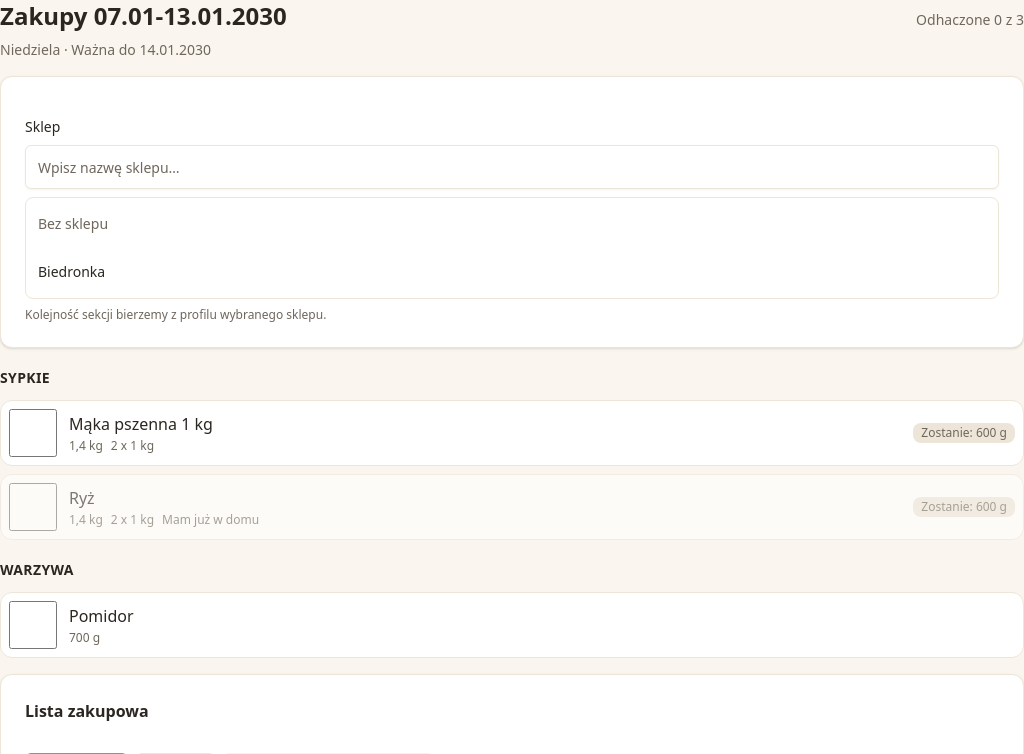
Test: ListaZakupowPage › zmiana sklepu wysyła PATCH i podmienia listę na wersję z serwera (AC 1)
In the dropdown with test id "store-picker-input": {"x": 512, "y": 167} [25,145,999,189], type "Biedronka"
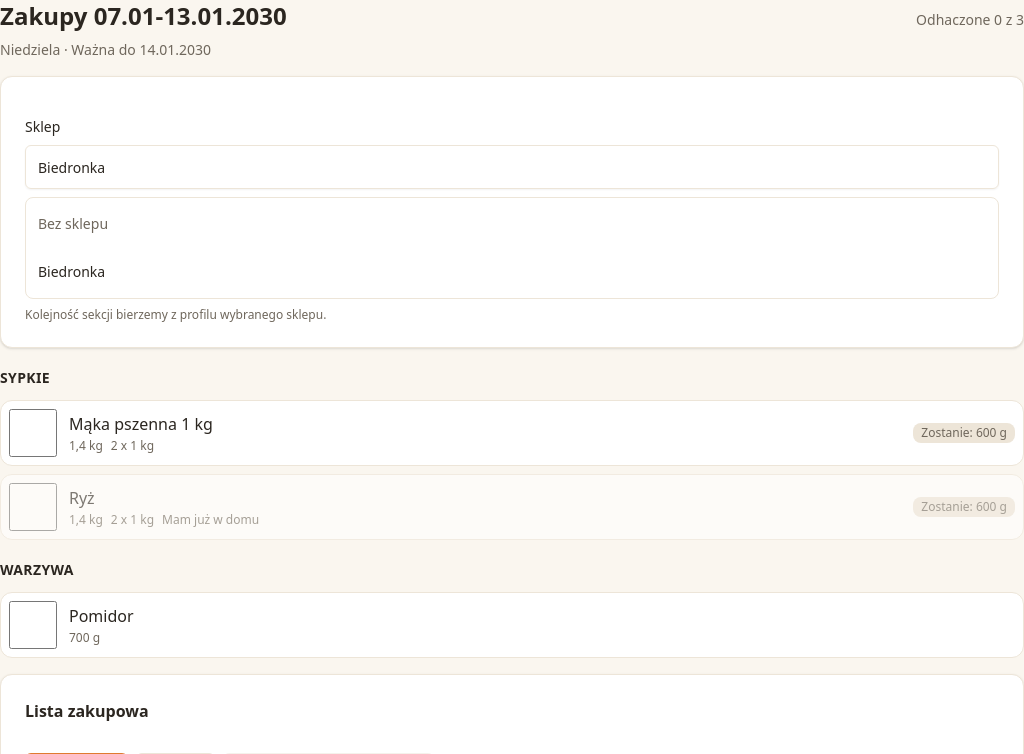
Click the button with test id "store-picker-option-9": {"x": 72, "y": 272} [30,250,994,294]
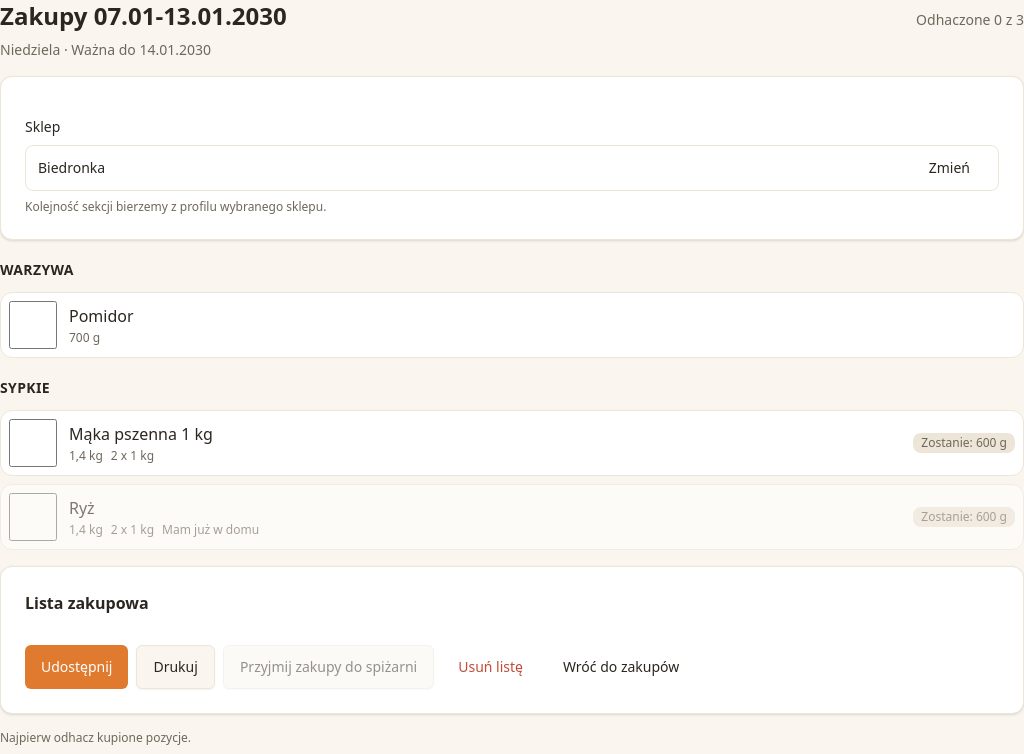
Expected: the headings read "Warzywa", "Sypkie", in this order, [0,256,1023,284]; [0,374,1023,402]
